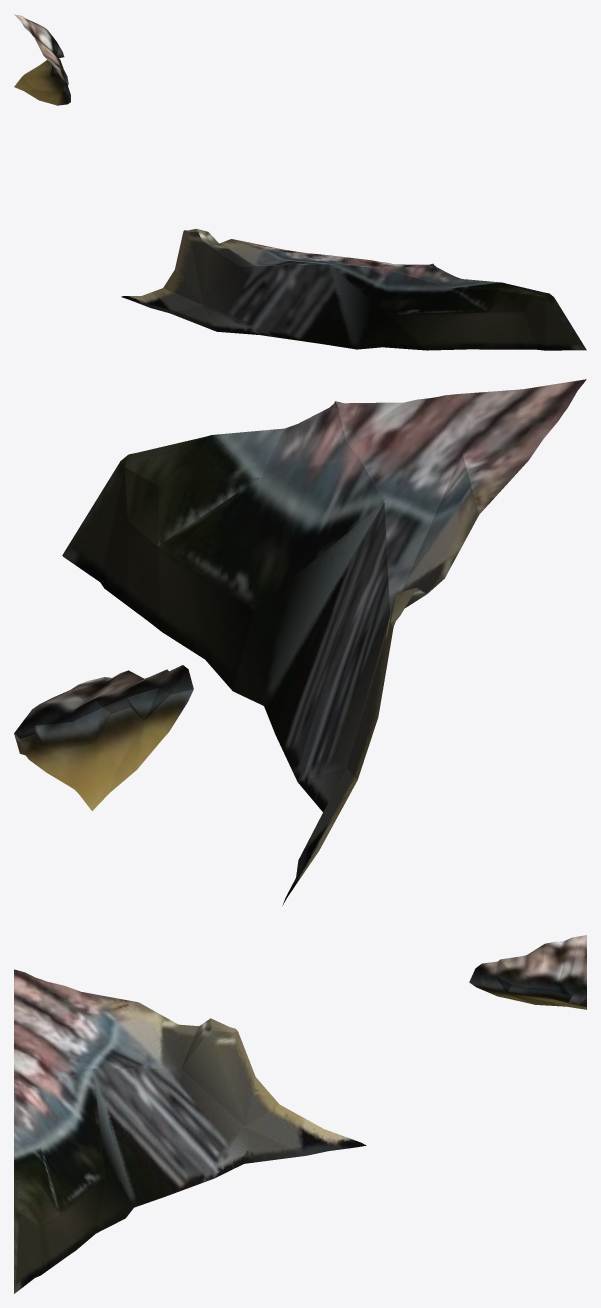
3 renders of one model, top to bottom at view 1: azimuth 30°, elevation 25°; view 2: azimuth 150°, elevation 25°; view 3: azimuth 270°, elevation 25°, orthographic. The views are drawn at different scales.
Size of the model in its own units: 2.05 by 1.36 by 3.35.
1 material, 1 textured.
